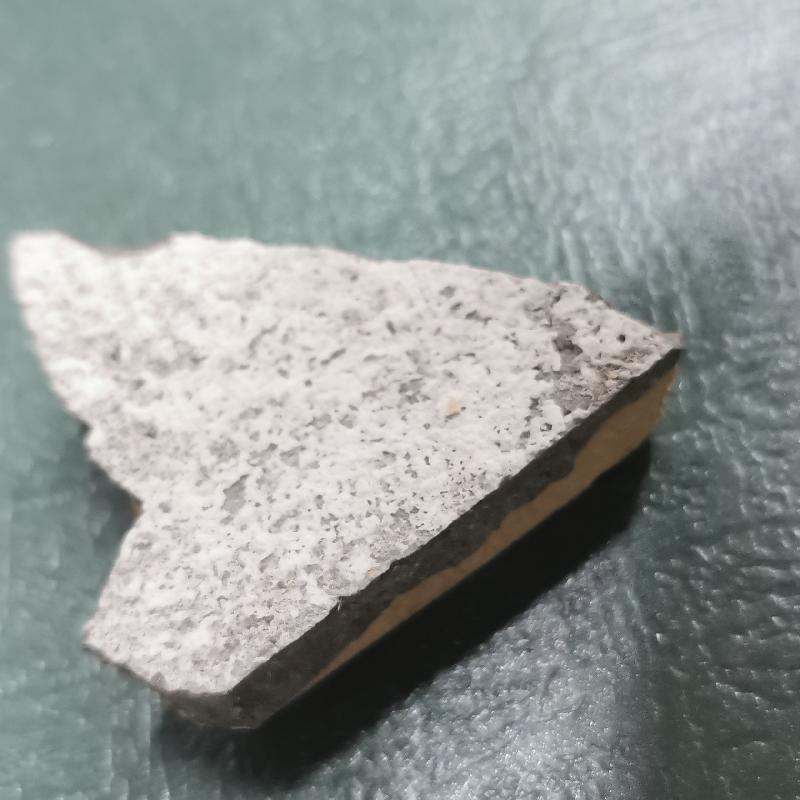tile: (8, 226, 682, 737)
